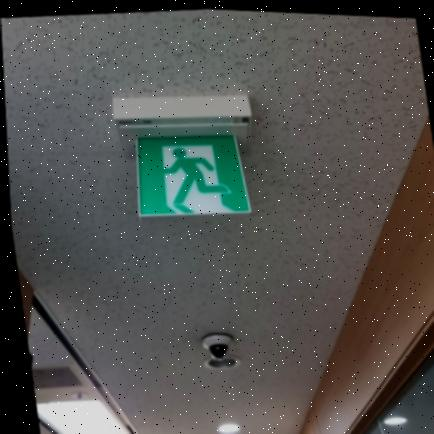emergency_exit: (135, 131, 252, 218)
